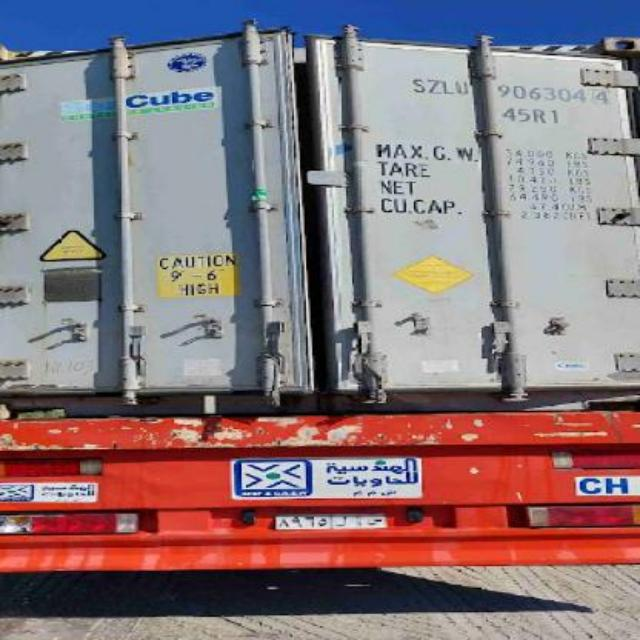0: (512, 84, 526, 100), (558, 87, 572, 103)
3: (542, 86, 556, 102)
4: (572, 88, 588, 104), (593, 90, 609, 106)
6: (528, 86, 542, 102)
9: (496, 84, 510, 98)
L: (441, 78, 455, 96)
S: (410, 78, 426, 95)
U: (454, 79, 472, 97)
Z: (428, 76, 442, 95)
